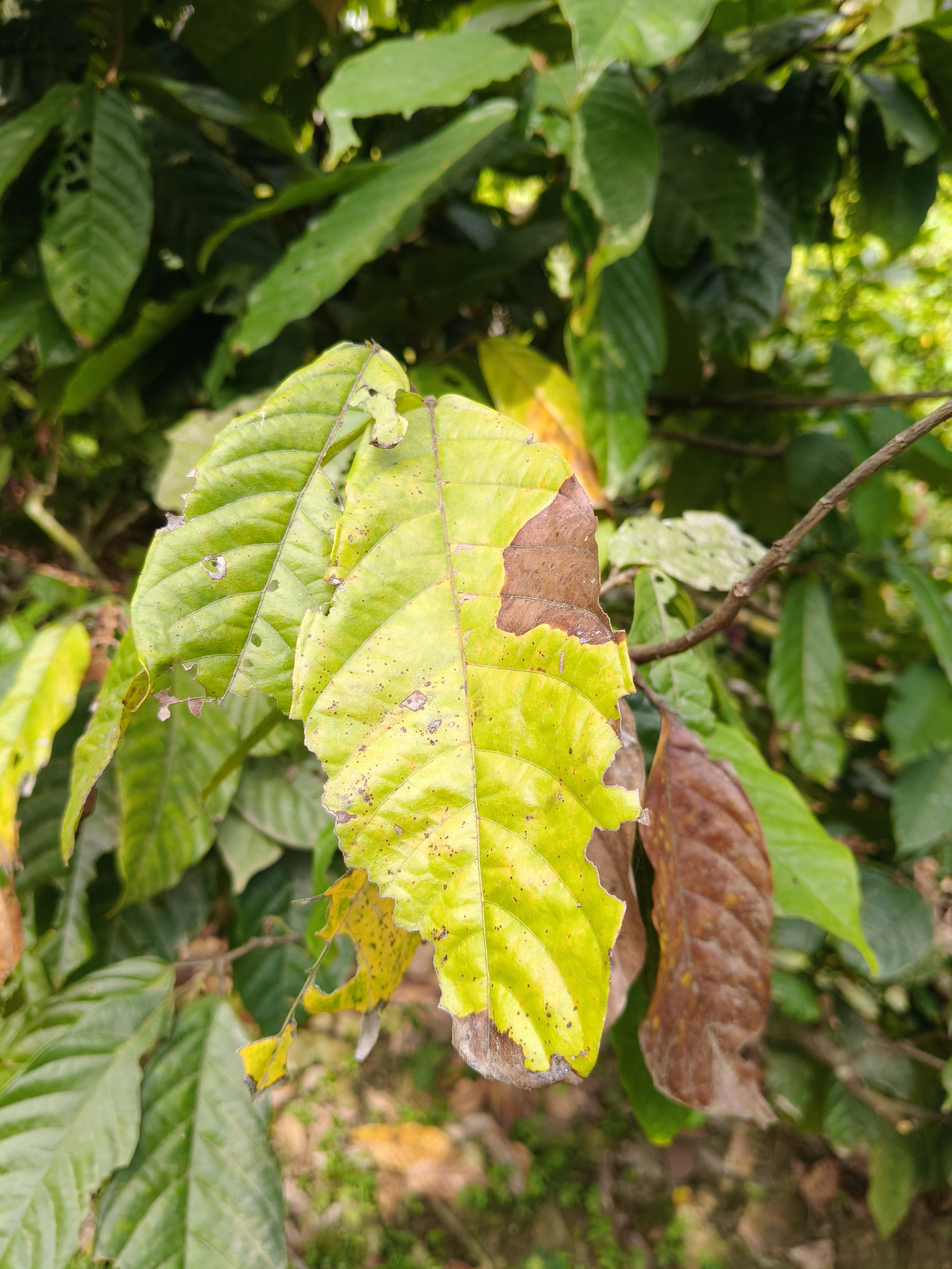deficiencia_potasio: (281, 398, 663, 1143)
